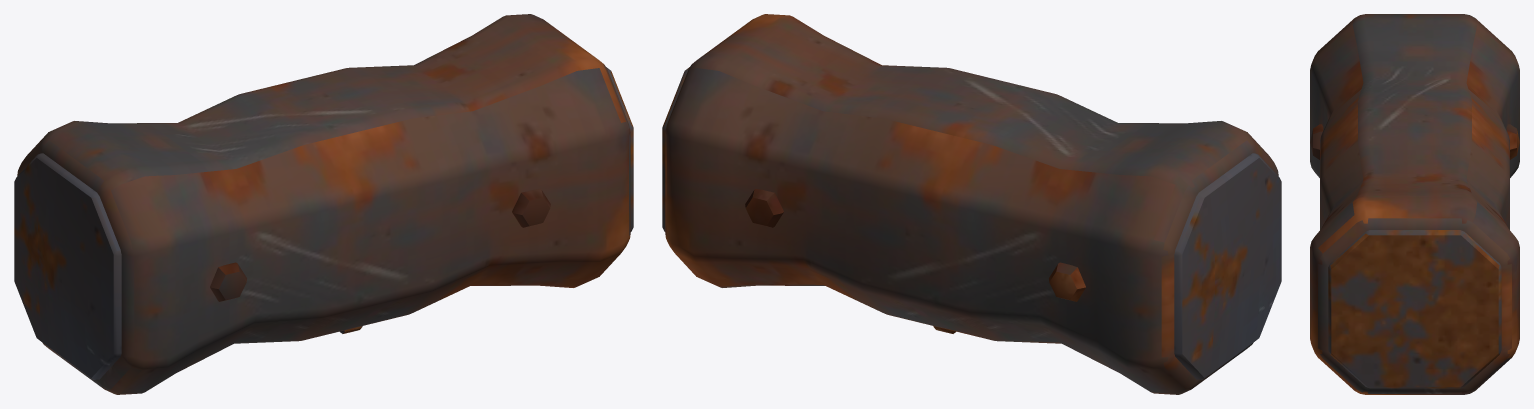
The model's file is Head_Hammer.glb.
The picture shows the model from 3 angles, left to right: view 1: azimuth 30°, elevation 25°; view 2: azimuth 150°, elevation 25°; view 3: azimuth 270°, elevation 25°; orthographic projection. The views are drawn at different scales.
Visible parts, largest first — view 1: Head_Hammer; view 2: Head_Hammer; view 3: Head_Hammer.
Part boxes in pixels (left/top/right/bottom): Head_Hammer: left=14, top=14, right=633, bottom=394; Head_Hammer: left=662, top=14, right=1281, bottom=394; Head_Hammer: left=1310, top=14, right=1519, bottom=394.
Size of the model in its own units: 0.318 by 0.128 by 0.128.
3 materials, 3 textured.
